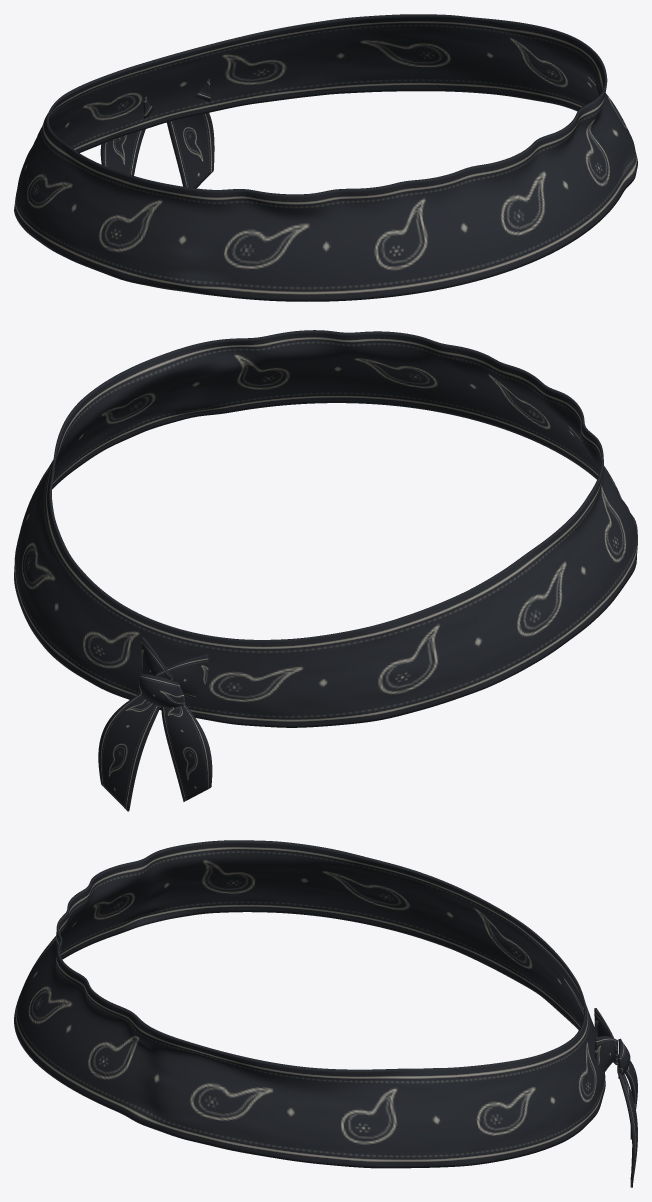
The model's file is Masculine-sidepart-bandana.glb.
3 renders of one model, top to bottom at view 1: azimuth 30°, elevation 25°; view 2: azimuth 150°, elevation 25°; view 3: azimuth 270°, elevation 25°, orthographic. The views are drawn at different scales.
Visible parts, largest first — view 1: Bandana / folded wrap, Bandana / hemmed tail 1, Bandana / hemmed tail -1; view 2: Bandana / folded wrap, Bandana / hemmed tail 1, Bandana / hemmed tail -1, Bandana / gathered fold -1, Bandana / rounded knot fold, Bandana / gathered fold 1; view 3: Bandana / folded wrap, Bandana / hemmed tail 1, Bandana / gathered fold 1.
Part boxes in pixels (left/top/right/bottom): Bandana / folded wrap: left=14, top=14, right=637, bottom=301; Bandana / hemmed tail 1: left=166, top=113, right=214, bottom=188; Bandana / hemmed tail -1: left=100, top=129, right=145, bottom=175; Bandana / folded wrap: left=14, top=330, right=637, bottom=727; Bandana / hemmed tail 1: left=98, top=693, right=160, bottom=811; Bandana / hemmed tail -1: left=161, top=704, right=212, bottom=801; Bandana / gathered fold -1: left=155, top=653, right=208, bottom=698; Bandana / rounded knot fold: left=138, top=673, right=185, bottom=707; Bandana / gathered fold 1: left=141, top=636, right=173, bottom=680; Bandana / folded wrap: left=14, top=840, right=605, bottom=1168; Bandana / hemmed tail 1: left=617, top=1062, right=637, bottom=1187; Bandana / gathered fold 1: left=594, top=1036, right=617, bottom=1074.
Size of the model in its own units: 0.7608 by 0.34 by 0.7956.
1 material, 1 textured.
